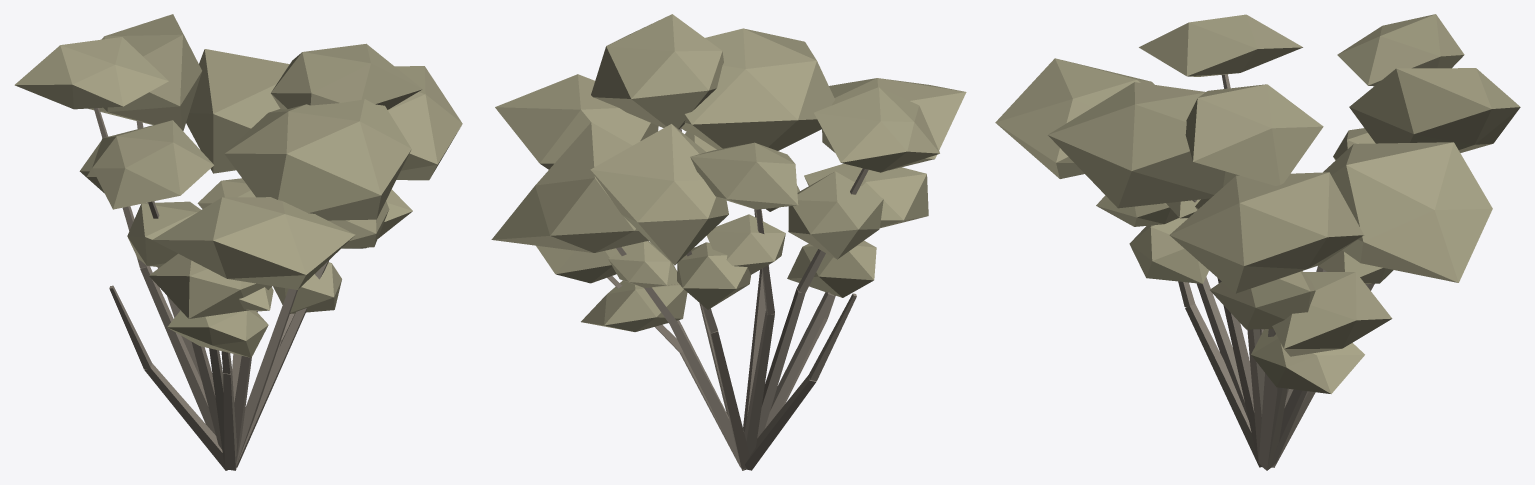
File: scrub.glb
3 renders of one model, left to right at view 1: azimuth 30°, elevation 25°; view 2: azimuth 150°, elevation 25°; view 3: azimuth 270°, elevation 25°, orthographic. The views are drawn at different scales.
Visible parts, largest first — view 1: Scrub; view 2: Scrub; view 3: Scrub.
Part boxes in pixels (x1,y1,x2,y2): Scrub: (14,14,462,470); Scrub: (491,14,966,470); Scrub: (995,14,1520,470).
Size of the model in its own units: 0.9823 by 1 by 1.12.
